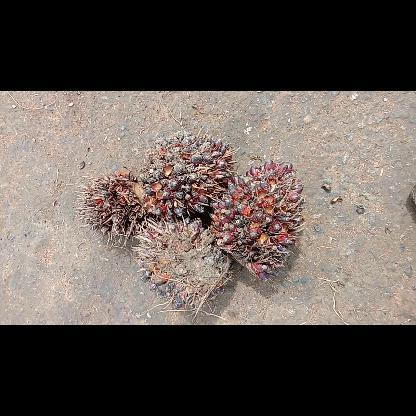TBS abnormal: (211, 160, 305, 280), (132, 214, 234, 310), (140, 130, 236, 218), (76, 171, 176, 245)
